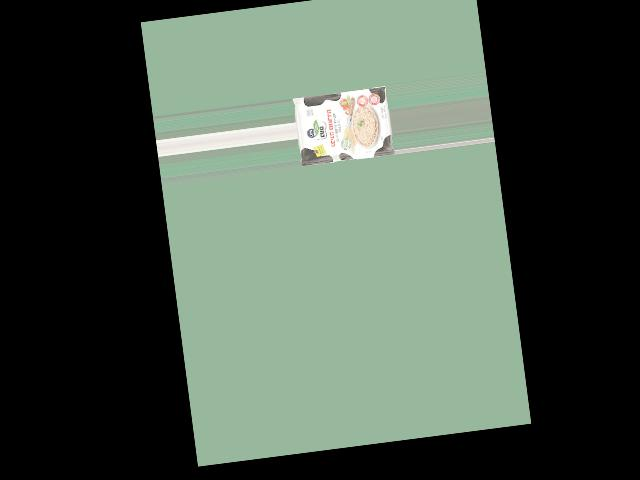cheese: (298, 75, 390, 167)
